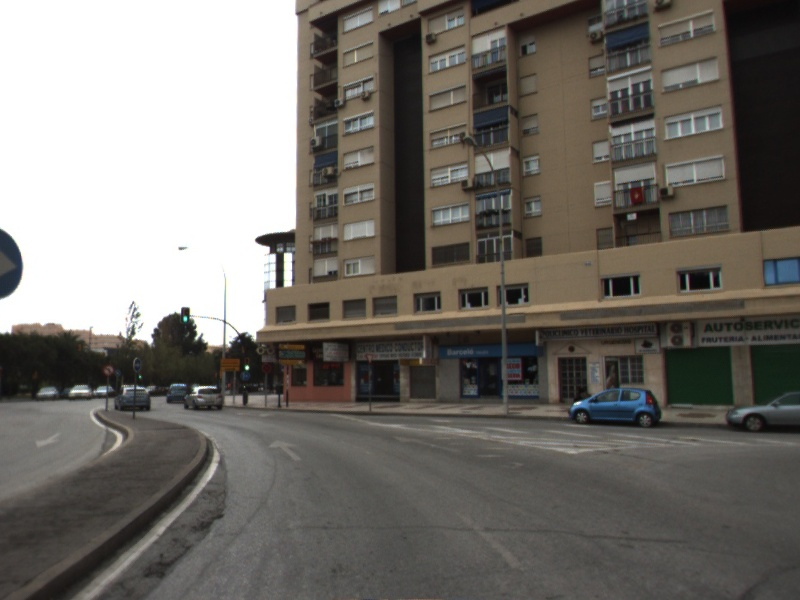STRAIGHT: (389, 433, 463, 455), (266, 437, 304, 463)
